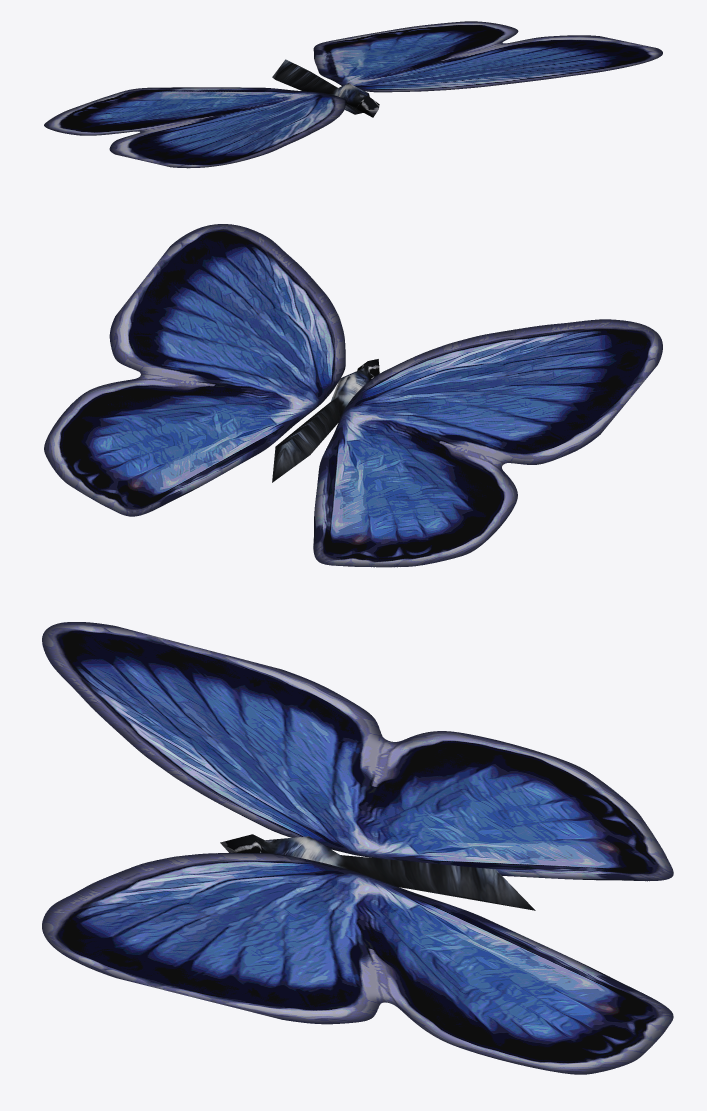
Rendered from Particle_Butterfly_Model_UltraLow_Angled.fbx.
3 views of the same model, one above another, from view 1: azimuth 30°, elevation 25°; view 2: azimuth 150°, elevation 25°; view 3: azimuth 270°, elevation 25° (orthographic). The views are drawn at different scales.
Visible parts, largest first — view 1: ButterflyParticleMesh_UL1_Angled; view 2: ButterflyParticleMesh_UL1_Angled; view 3: ButterflyParticleMesh_UL1_Angled.
Boxes of the visible parts, box(x1,y1,x2,y2) form: ButterflyParticleMesh_UL1_Angled: box(44, 21, 662, 168); ButterflyParticleMesh_UL1_Angled: box(44, 224, 662, 567); ButterflyParticleMesh_UL1_Angled: box(42, 622, 673, 1074).
Bounding box in the file's own units: 138 × 31.6 × 112.
